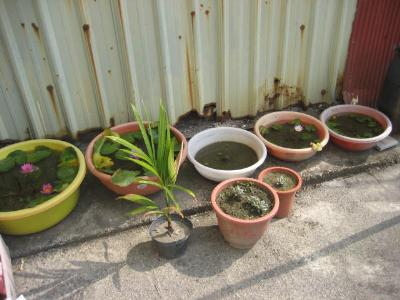bowl: (1, 139, 87, 237), (84, 120, 188, 191), (186, 125, 268, 180), (254, 110, 330, 162), (320, 104, 393, 153)
